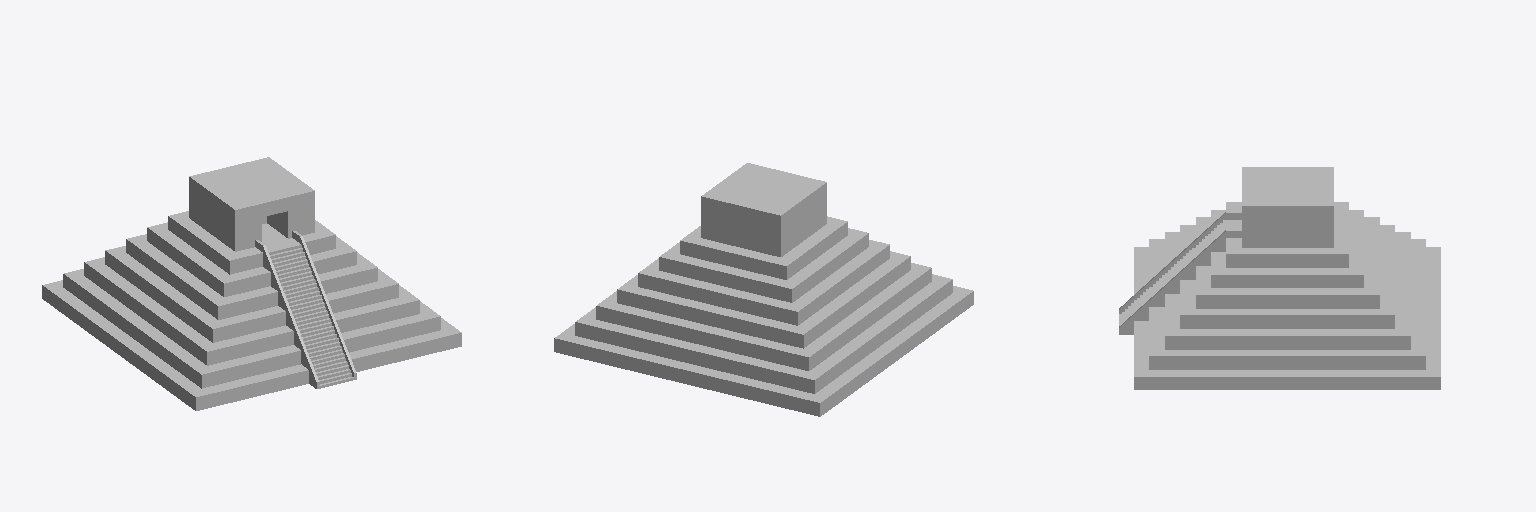
Rendered from model_small.obj.
3 views of the same model, side by side, from view 1: azimuth 30°, elevation 25°; view 2: azimuth 150°, elevation 25°; view 3: azimuth 270°, elevation 25° (orthographic).
Visible parts, largest first — view 1: First_Pyramid_Cube.003; view 2: First_Pyramid_Cube.003; view 3: First_Pyramid_Cube.003.
Boxes of the visible parts, x1,y1,x2,y2 form: First_Pyramid_Cube.003: [42, 157, 461, 410]; First_Pyramid_Cube.003: [554, 163, 973, 416]; First_Pyramid_Cube.003: [1119, 167, 1440, 389].
Size of the model in its own units: 0.5 by 0.2501 by 0.525.